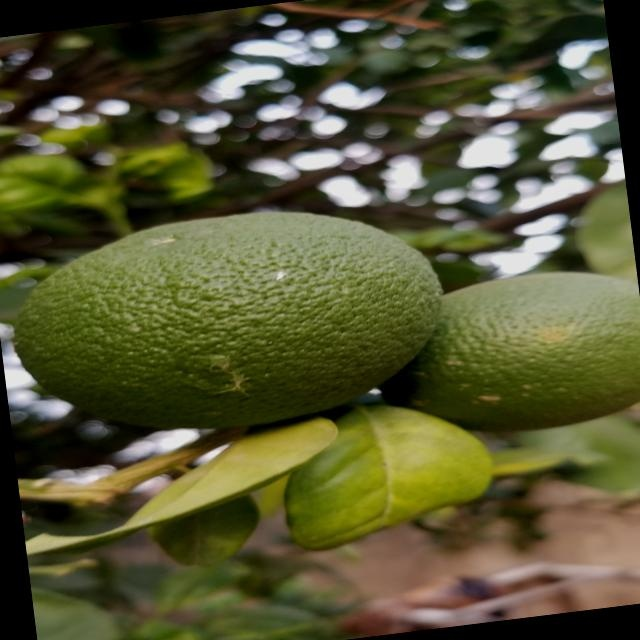agrume: (0, 185, 438, 450), (388, 256, 640, 447)
